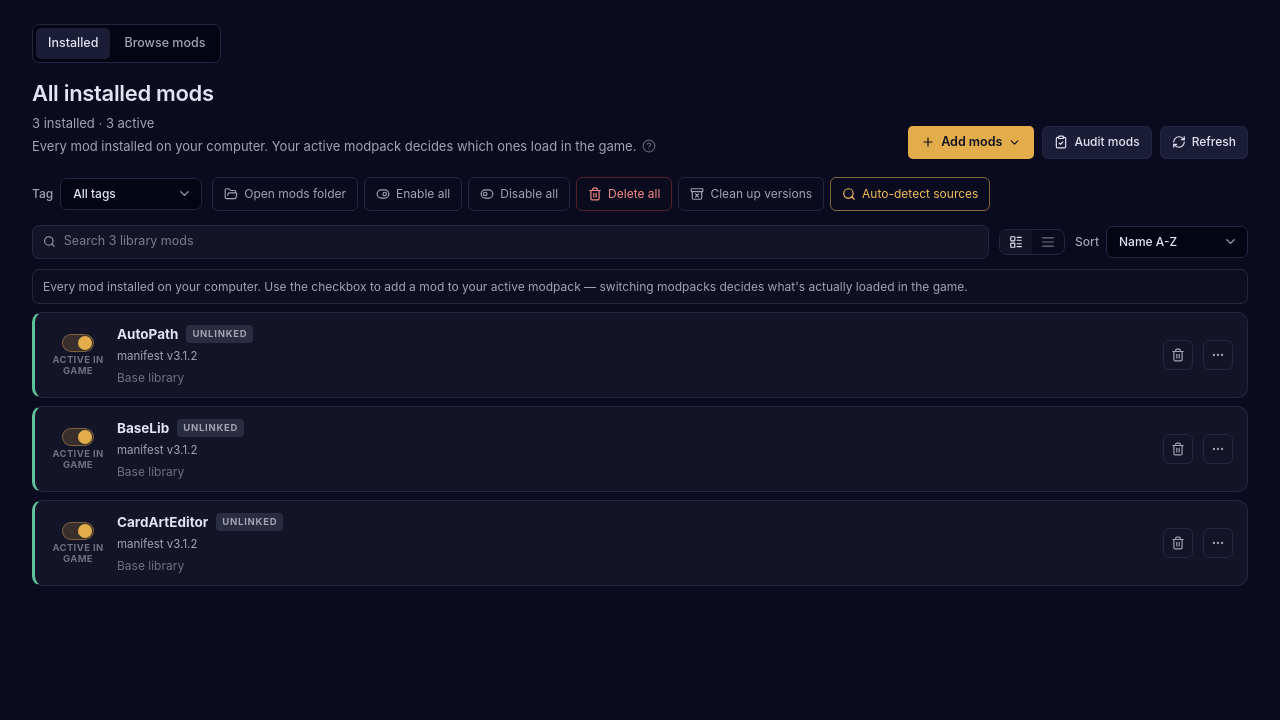
Scenario: <ModsView> › search filter narrows the visible rows
Expected: the heading "BaseLib" is shown, 117,418 -> 169,439
// Search by "auto" → only AutoPath remains
Step 1. Type "auto" into the field with placeholder "Search 3 library mods?" → [521, 242], box 64,232 -> 978,251
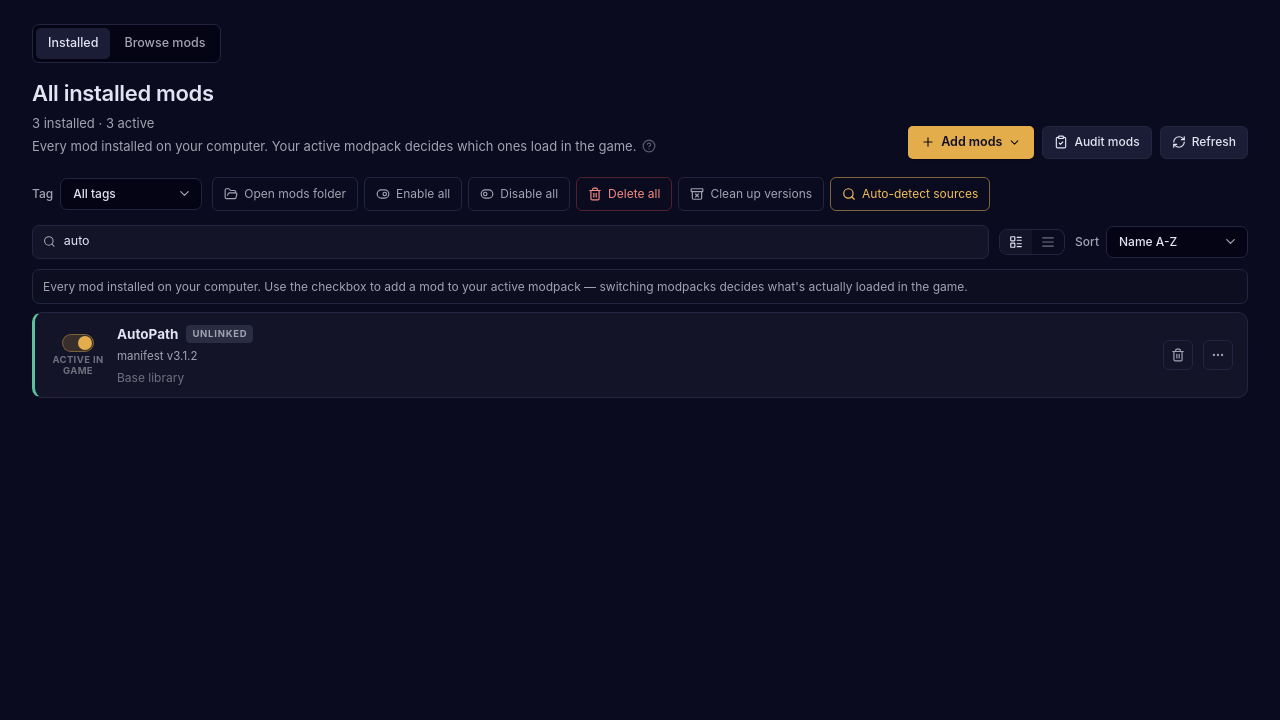
Expected: the heading "AutoPath" is shown, 117,324 -> 178,344
Result: the button "BaseLib" is gone
Result: the button "CardArtEditor" is gone
